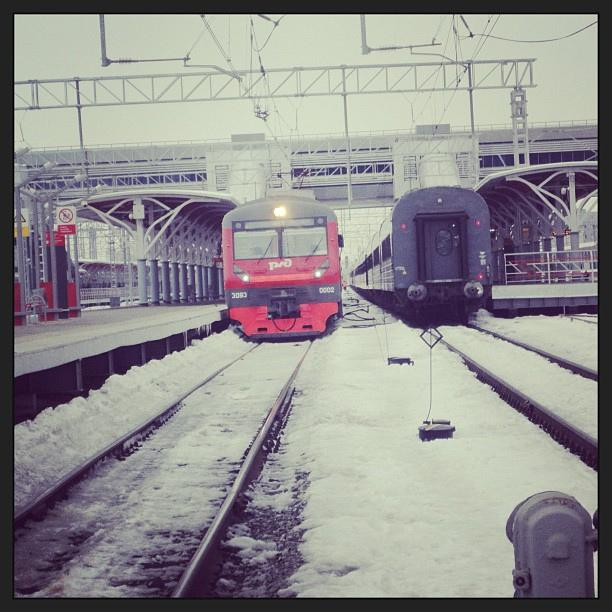Train: (347, 188, 499, 308), (222, 199, 348, 343)
